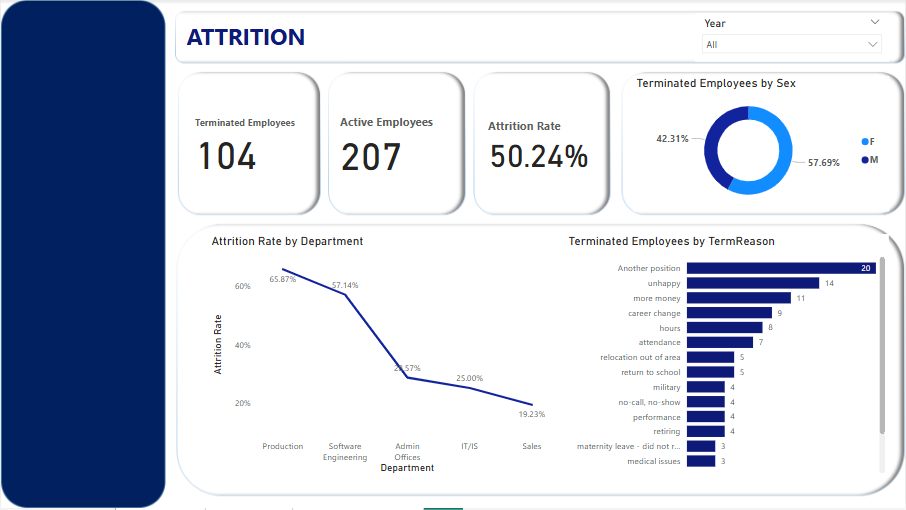

What the dashboard file says about the page in this screenshot:
{"tool":"powerbi","page":{"name":"Attrition","canvas":[1280,720],"ordinal":1},"visuals":[{"type":"slicer","fields":{"Values":["Date Table.Year"]},"box":[983.2,18.6,274.9,69.1],"z":0},{"type":"textbox","box":[258,23.6,220.9,60.7],"z":1000},{"type":"cardVisual","fields":{"Data":["_measures.Attrition Rate"]},"box":[672.9,126.5,177.1,161.9],"z":2000},{"type":"cardVisual","fields":{"Data":["_measures.Active Employees"]},"box":[463.8,126.5,177.1,161.9],"z":3000},{"type":"cardVisual","fields":{"Data":["_measures.Terminated Employees"]},"box":[258,126.5,185.5,161.9],"z":4000},{"type":"donutChart","fields":{"Y":["_measures.Terminated Employees"],"Category":["HRDataset.Sex"]},"box":[895.5,107.9,362.6,192.3],"z":5000},{"type":"lineChart","fields":{"Y":["_measures.Attrition Rate"],"Category":["HRDataset.Department"]},"box":[293.4,331.7,506,344.4],"z":6000},{"type":"barChart","fields":{"Y":["_measures.Terminated Employees"],"Category":["HRDataset.TermReason"]},"box":[799.4,331.7,459.2,344.4],"z":7000}]}

Visuals, with their boxes in screenshot pixels (x1, y1, x2, y2), scaled from the page's 1280x720 canvas onto the 906x510 screenshot:
slicer - Date Table.Year: rect(696, 13, 890, 62)
textbox: rect(183, 17, 339, 60)
cardVisual - _measures.Attrition Rate: rect(476, 90, 602, 204)
cardVisual - _measures.Active Employees: rect(328, 90, 454, 204)
cardVisual - _measures.Terminated Employees: rect(183, 90, 314, 204)
donutChart - _measures.Terminated Employees x HRDataset.Sex: rect(634, 76, 890, 213)
lineChart - _measures.Attrition Rate x HRDataset.Department: rect(208, 235, 566, 479)
barChart - _measures.Terminated Employees x HRDataset.TermReason: rect(566, 235, 891, 479)
